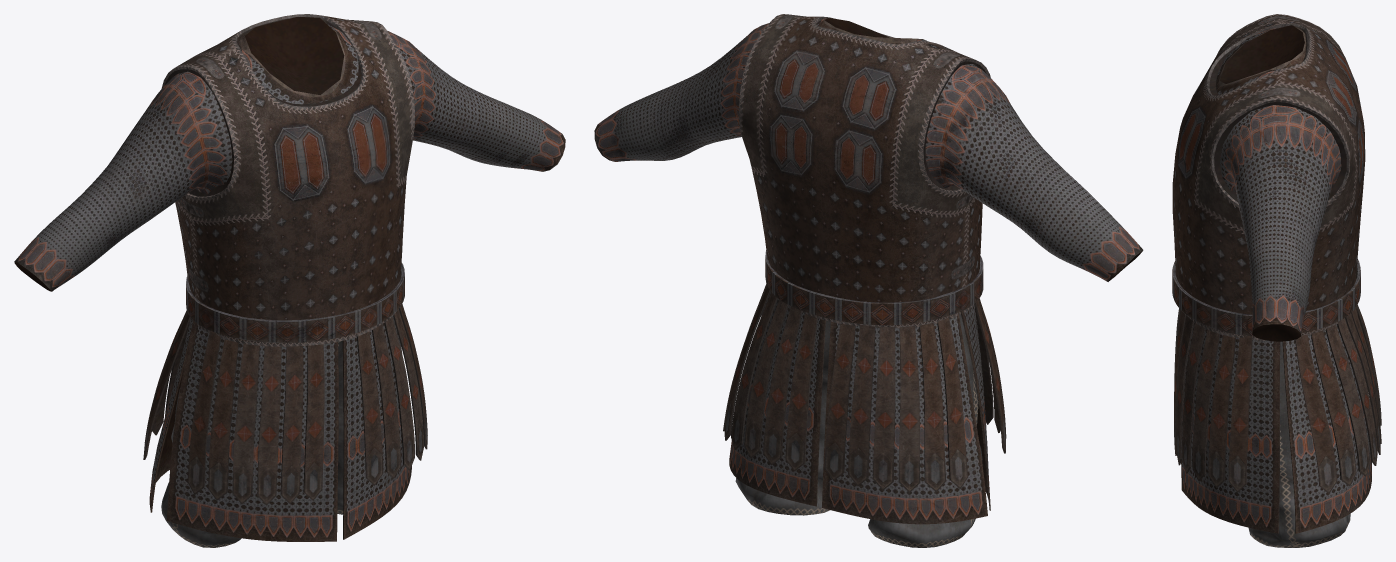
File: sk_dwarf_iron_chest_heavy_e.fbx
3 renders of one model, left to right at view 1: azimuth 30°, elevation 25°; view 2: azimuth 150°, elevation 25°; view 3: azimuth 270°, elevation 25°, orthographic. The views are drawn at different scales.
Visible parts, largest first — view 1: sk_dwarf_iron_chest_heavy_e.2, sk_dwarf_iron_chest_heavy_e.0, sk_dwarf_iron_chest_heavy_e.1; view 2: sk_dwarf_iron_chest_heavy_e.2, sk_dwarf_iron_chest_heavy_e.0, sk_dwarf_iron_chest_heavy_e.1; view 3: sk_dwarf_iron_chest_heavy_e.2, sk_dwarf_iron_chest_heavy_e.0, sk_dwarf_iron_chest_heavy_e.1.
Part boxes in pixels (x1,y1,x2,y2): sk_dwarf_iron_chest_heavy_e.2: (143, 14, 427, 505); sk_dwarf_iron_chest_heavy_e.0: (14, 17, 565, 541); sk_dwarf_iron_chest_heavy_e.1: (161, 341, 343, 547); sk_dwarf_iron_chest_heavy_e.2: (723, 14, 1006, 492); sk_dwarf_iron_chest_heavy_e.0: (594, 18, 1143, 524); sk_dwarf_iron_chest_heavy_e.1: (735, 315, 982, 547); sk_dwarf_iron_chest_heavy_e.2: (1172, 14, 1381, 493); sk_dwarf_iron_chest_heavy_e.0: (1180, 25, 1371, 533); sk_dwarf_iron_chest_heavy_e.1: (1248, 341, 1350, 547).
Bounding box in the file's own units: 1.17 × 0.4144 × 1.01.
Materials: 3 (3 with a texture image).
